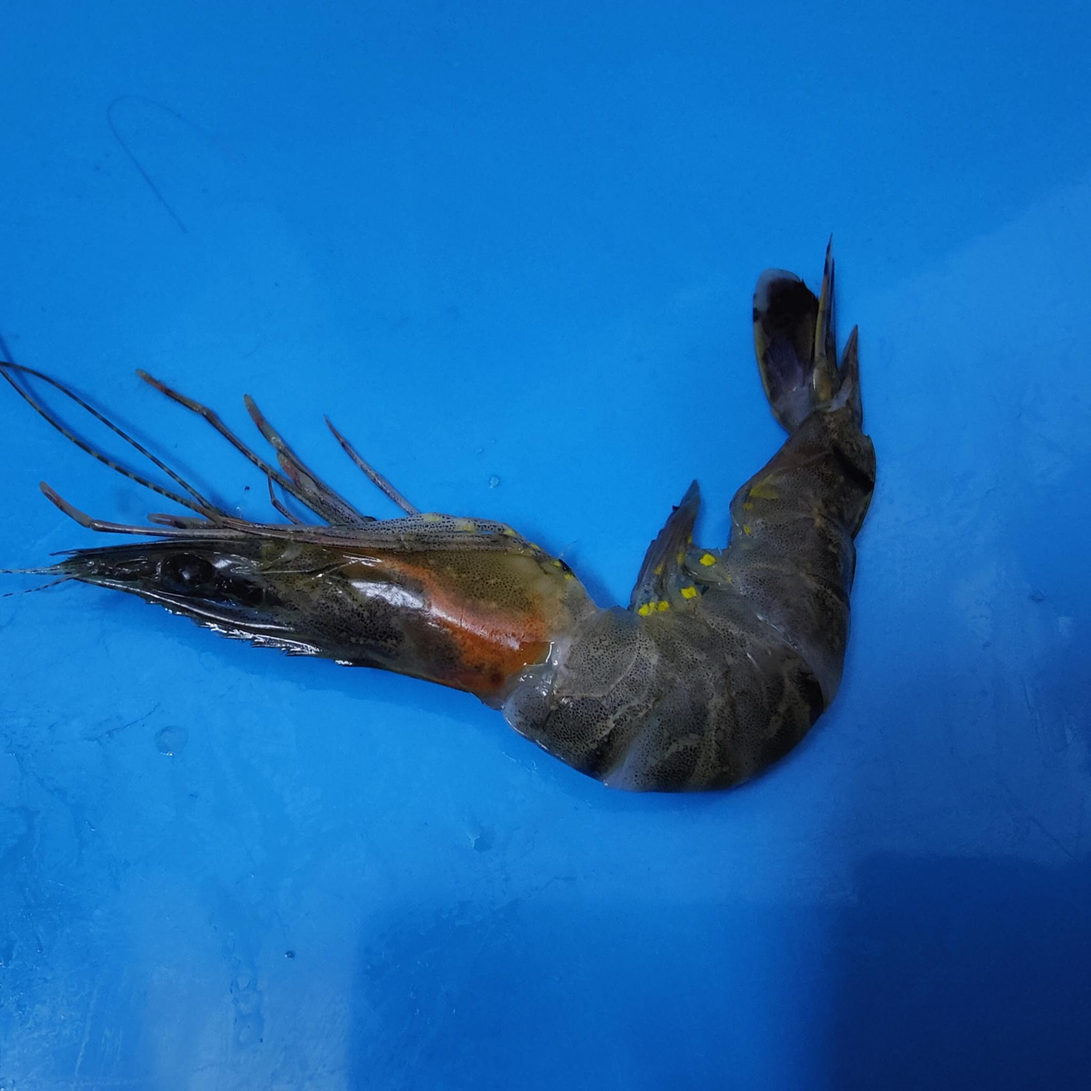whitespot: (341, 546, 593, 662)
